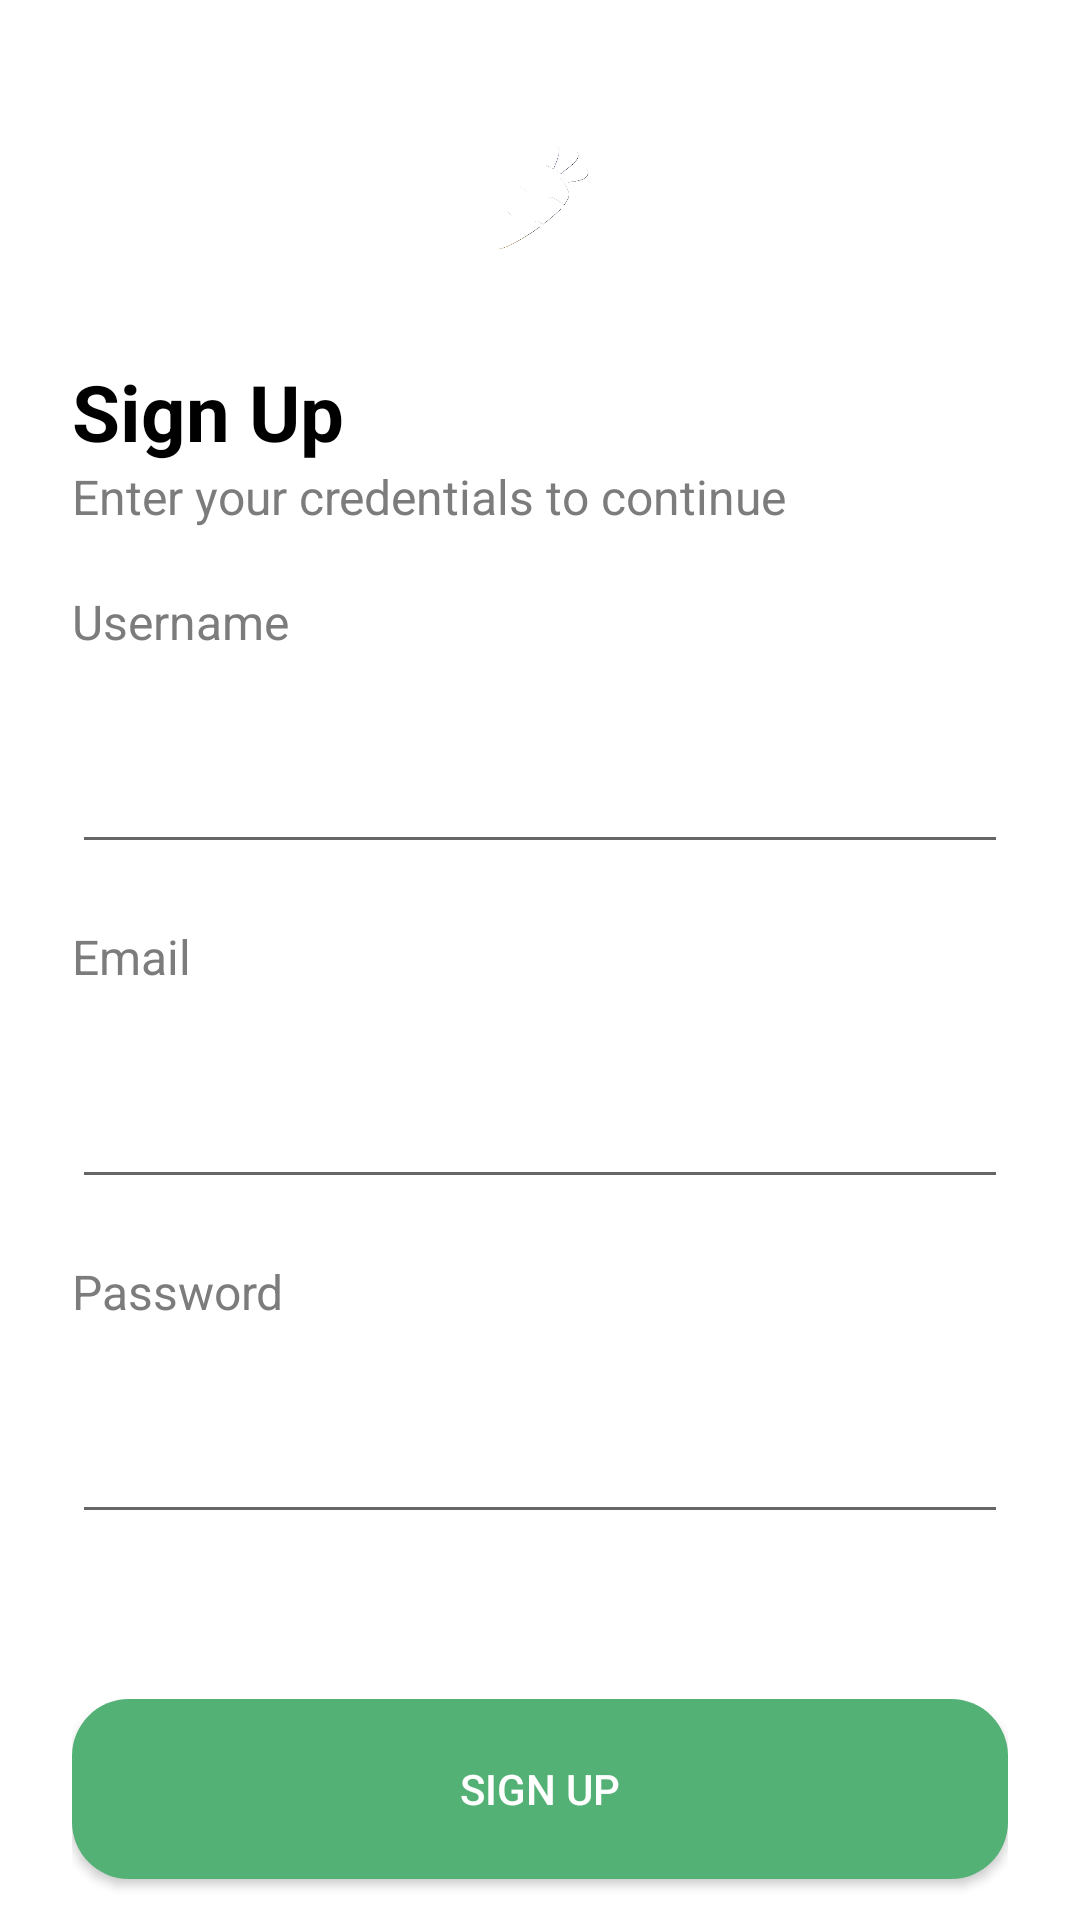

Where icons sit on this 1080 x 1920 app screen, as detection(x1, y1, x2, y2):
carrot: detection(499, 152, 588, 249)
